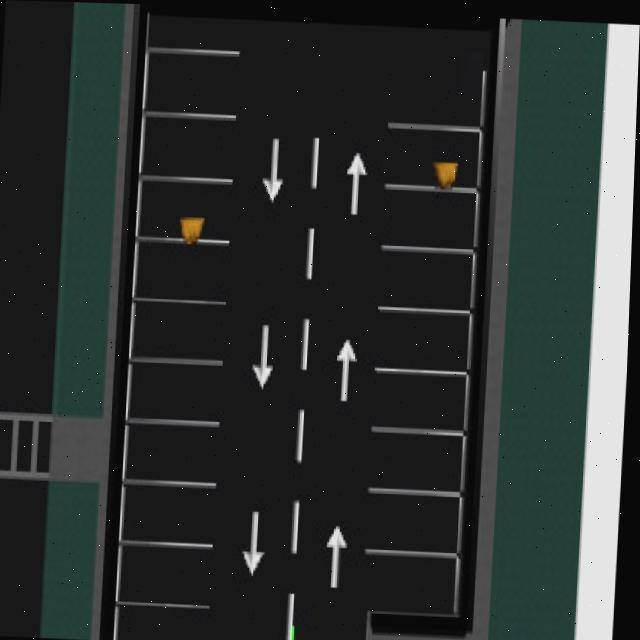garbage-trXY: (432, 164, 461, 189), (179, 218, 206, 239)
